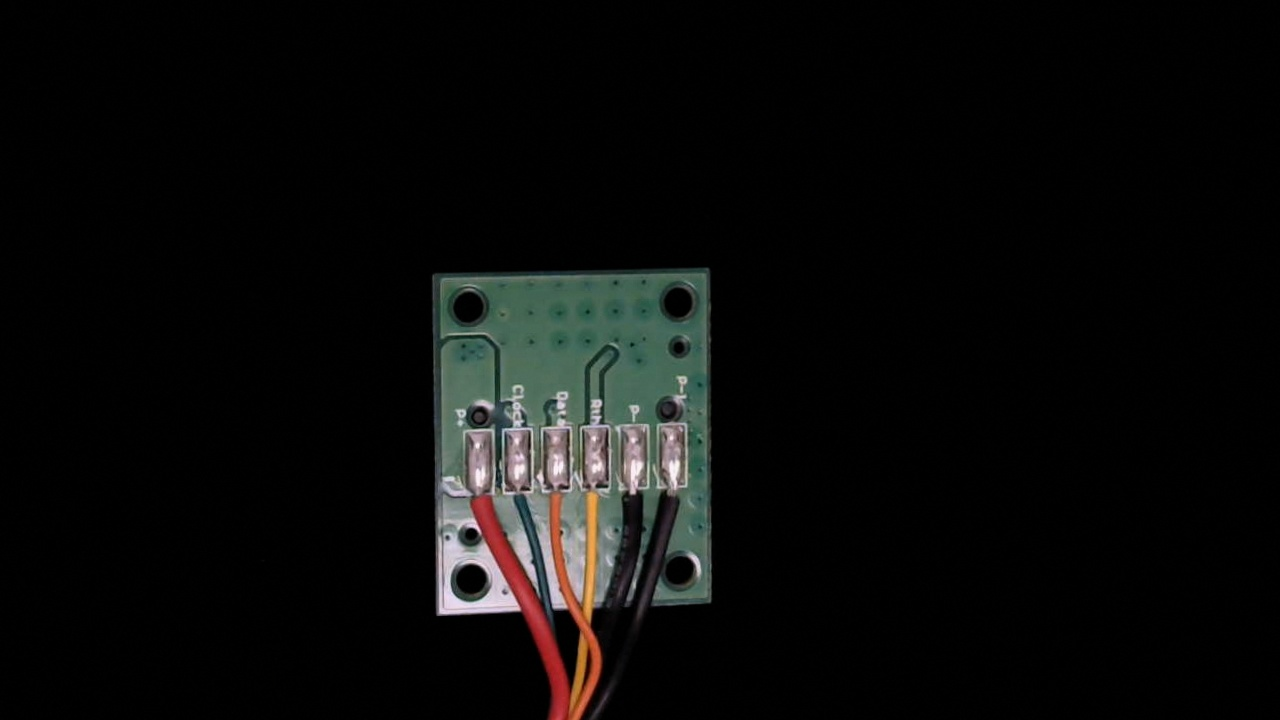Black: (616, 472, 651, 547)
Black1: (658, 469, 693, 539)
Green: (502, 471, 534, 533)
Orange: (541, 470, 574, 540)
Red: (464, 475, 499, 548)
Yellow: (577, 473, 613, 550)
